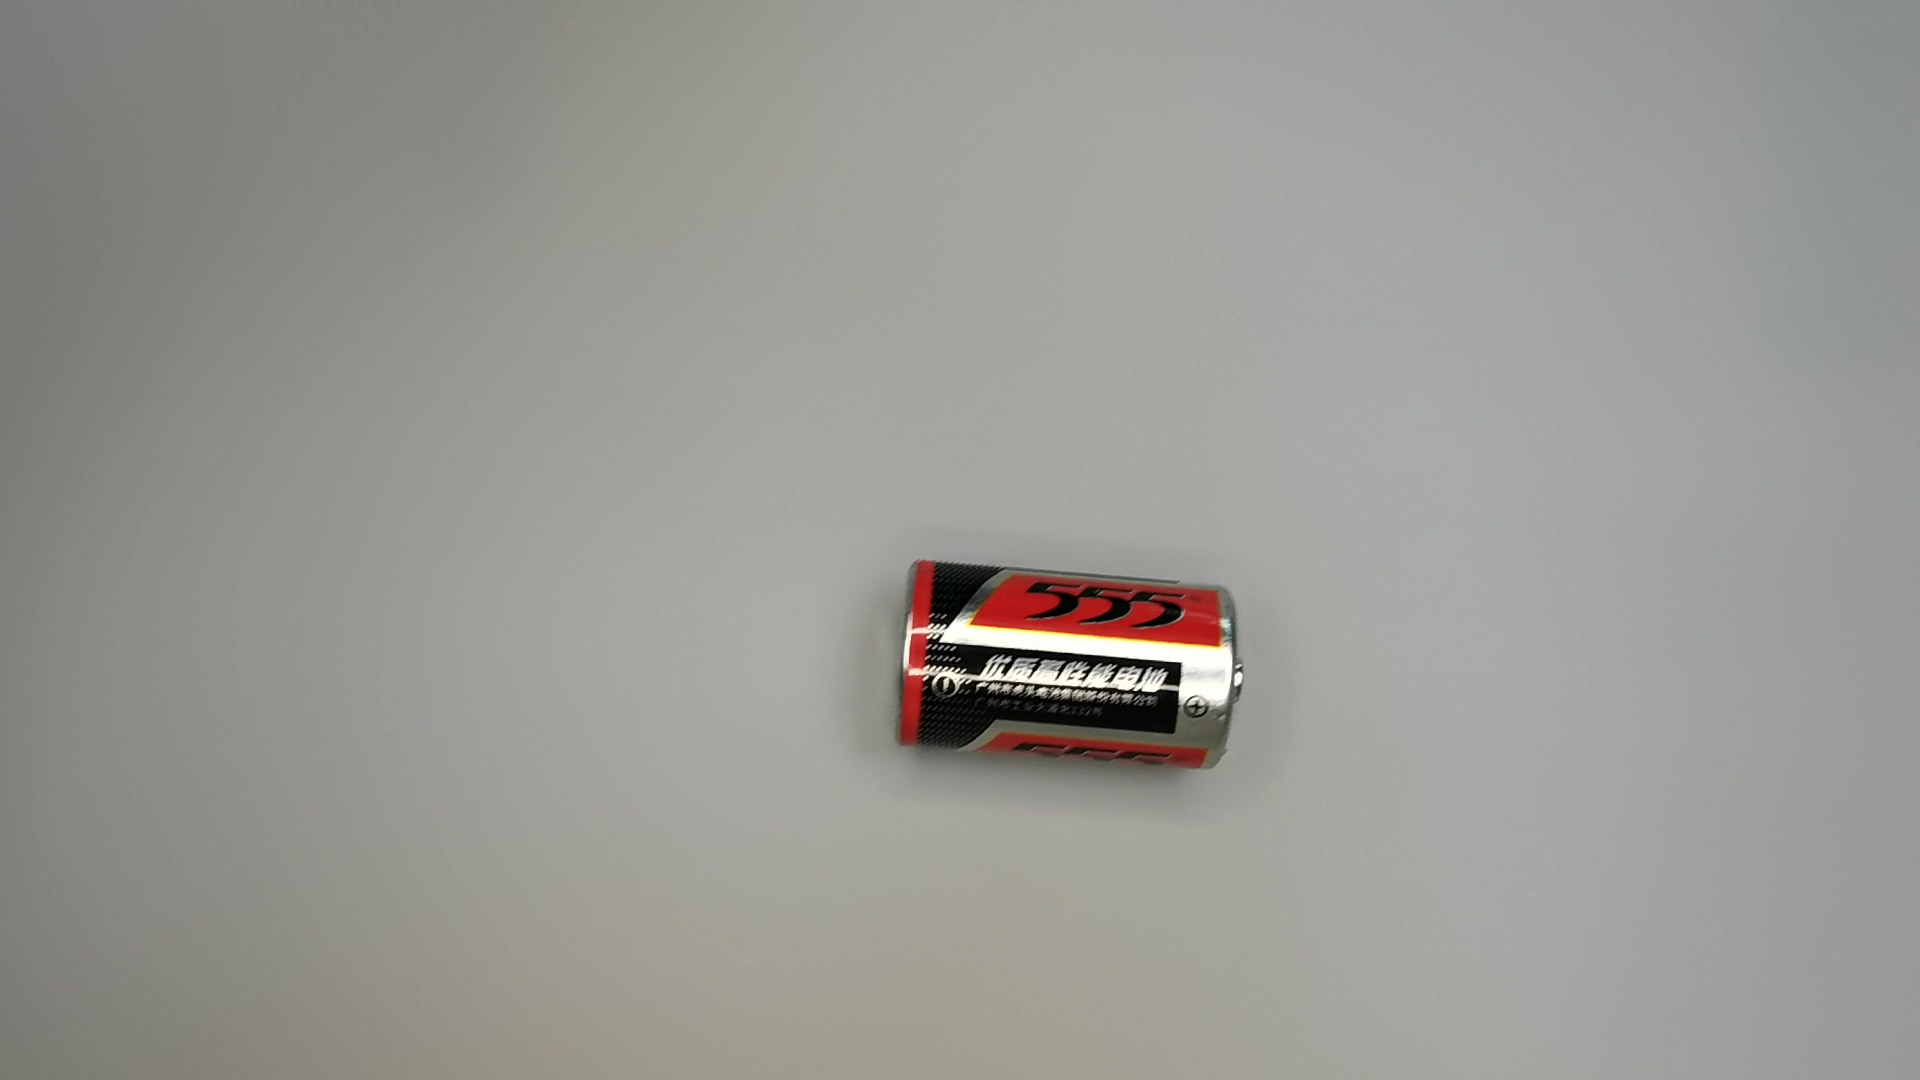battery: (891, 550, 1249, 779)
